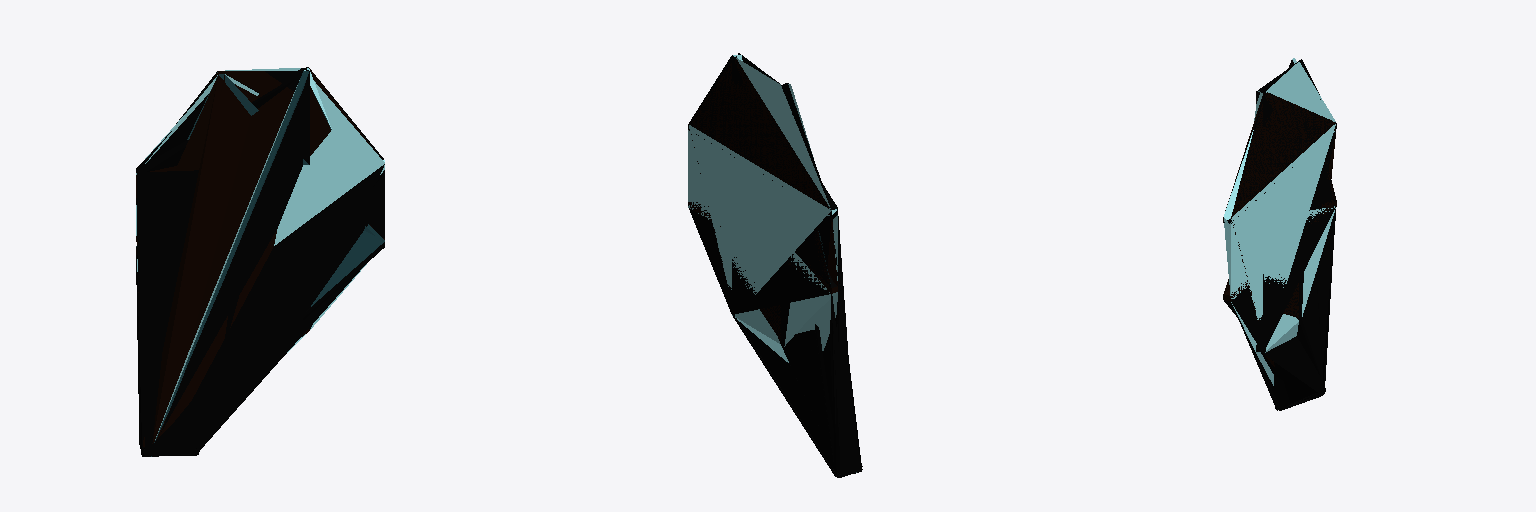
The model's file is Door1.obj.
The picture shows the model from 3 angles: view 1: azimuth 30°, elevation 25°; view 2: azimuth 150°, elevation 25°; view 3: azimuth 270°, elevation 25°; orthographic projection.
Parts seen in each view (by area): view 1: Box012, Cylinder001, Plane002, Box011; view 2: Plane002, Box012, Box011, Cylinder001; view 3: Plane002, Box011, Box012, Cylinder001.
Part boxes in pixels (bbox=[...]): Box012: bbox=[136, 67, 384, 456]; Cylinder001: bbox=[136, 68, 380, 446]; Plane002: bbox=[136, 68, 384, 456]; Box011: bbox=[136, 68, 384, 456]; Plane002: bbox=[688, 55, 856, 472]; Box012: bbox=[733, 53, 862, 477]; Box011: bbox=[688, 55, 840, 345]; Cylinder001: bbox=[688, 57, 837, 340]; Plane002: bbox=[1224, 58, 1335, 385]; Box011: bbox=[1224, 59, 1335, 362]; Box012: bbox=[1223, 60, 1336, 410]; Cylinder001: bbox=[1223, 92, 1335, 366].
Size of the model in its own units: 53.47 by 90.2 by 25.13.